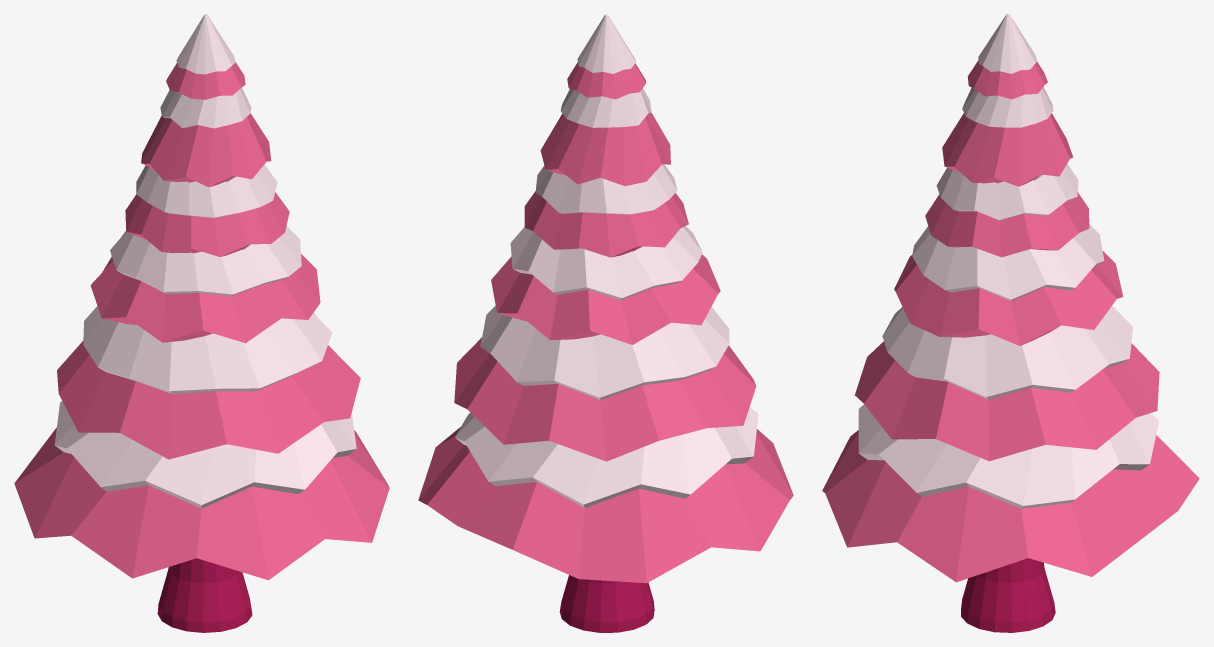
Rendered from tree1.glb.
The picture shows the model from 3 angles, left to right: view 1: azimuth 30°, elevation 25°; view 2: azimuth 150°, elevation 25°; view 3: azimuth 270°, elevation 25°; orthographic projection.
Visible parts, largest first — view 1: Cylinder.005; view 2: Cylinder.005; view 3: Cylinder.005.
Boxes of the visible parts, x1,y1,x2,y2 form: Cylinder.005: (14,14,389,632); Cylinder.005: (418,14,793,632); Cylinder.005: (822,14,1199,632).
Size of the model in its own units: 3.89 by 6.88 by 3.93.
